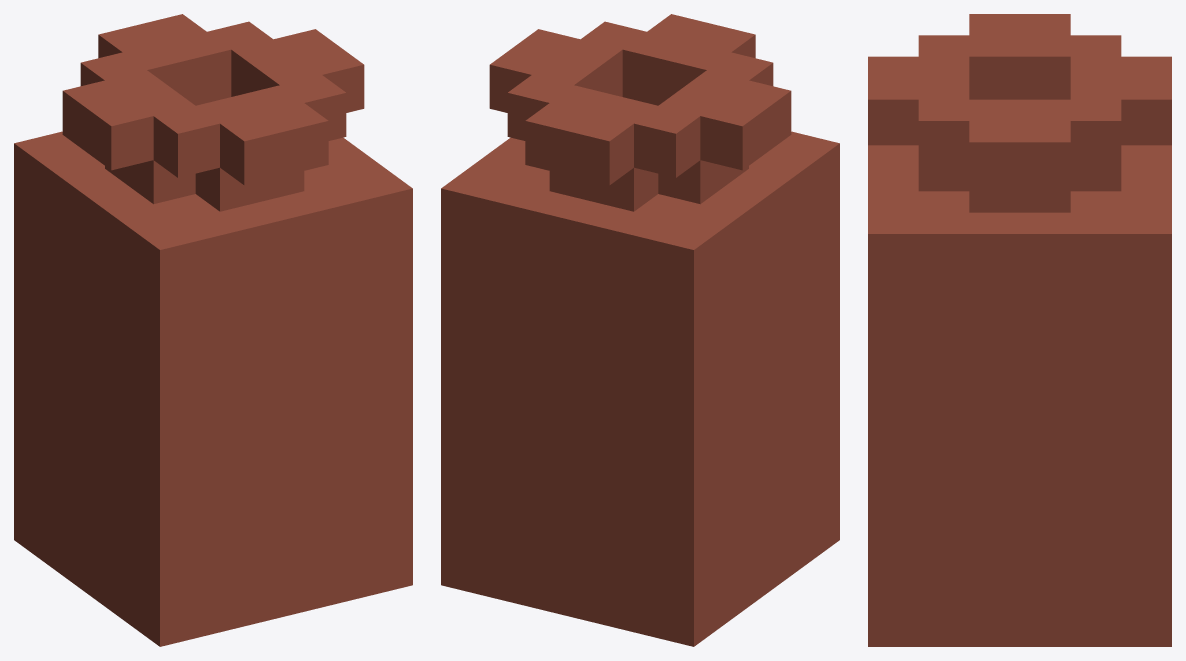
The model's file is Pot3.fbx.
3 renders of one model, left to right at view 1: azimuth 30°, elevation 25°; view 2: azimuth 150°, elevation 25°; view 3: azimuth 270°, elevation 25°, orthographic. The views are drawn at different scales.
Parts seen in each view (by area): view 1: mergedBlocks; view 2: mergedBlocks; view 3: mergedBlocks.
Part boxes in pixels (<box>): mergedBlocks: <box>14,14,412,646</box>; mergedBlocks: <box>441,14,839,646</box>; mergedBlocks: <box>868,14,1171,646</box>.
Bounding box in the file's own units: 1.92 × 3.52 × 1.92.
